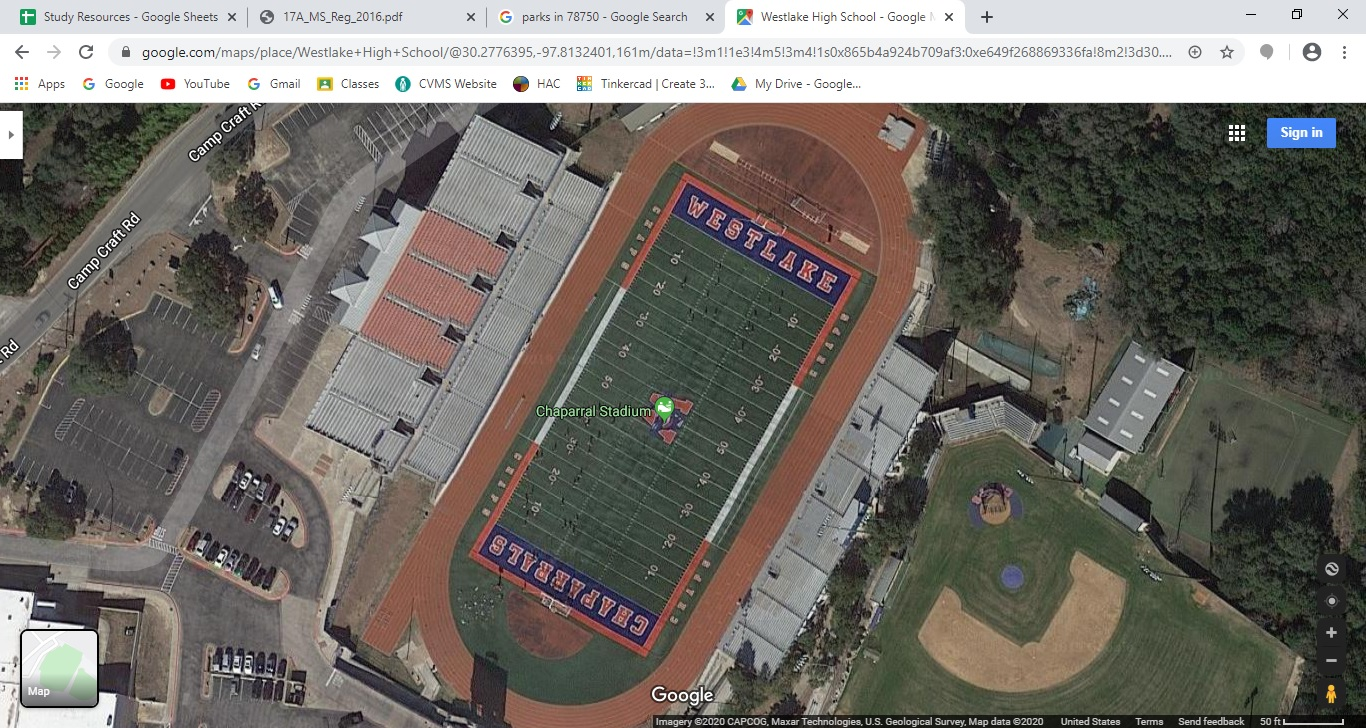baseball: (921, 430, 1337, 720)
football: (378, 112, 874, 728)
